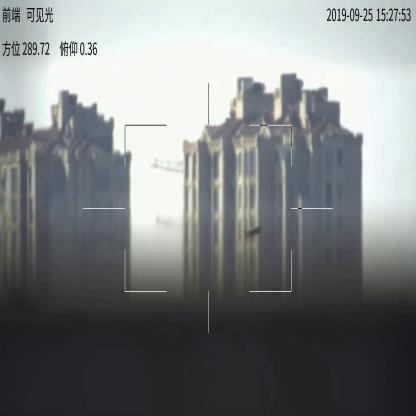uav: (242, 224, 259, 237)
